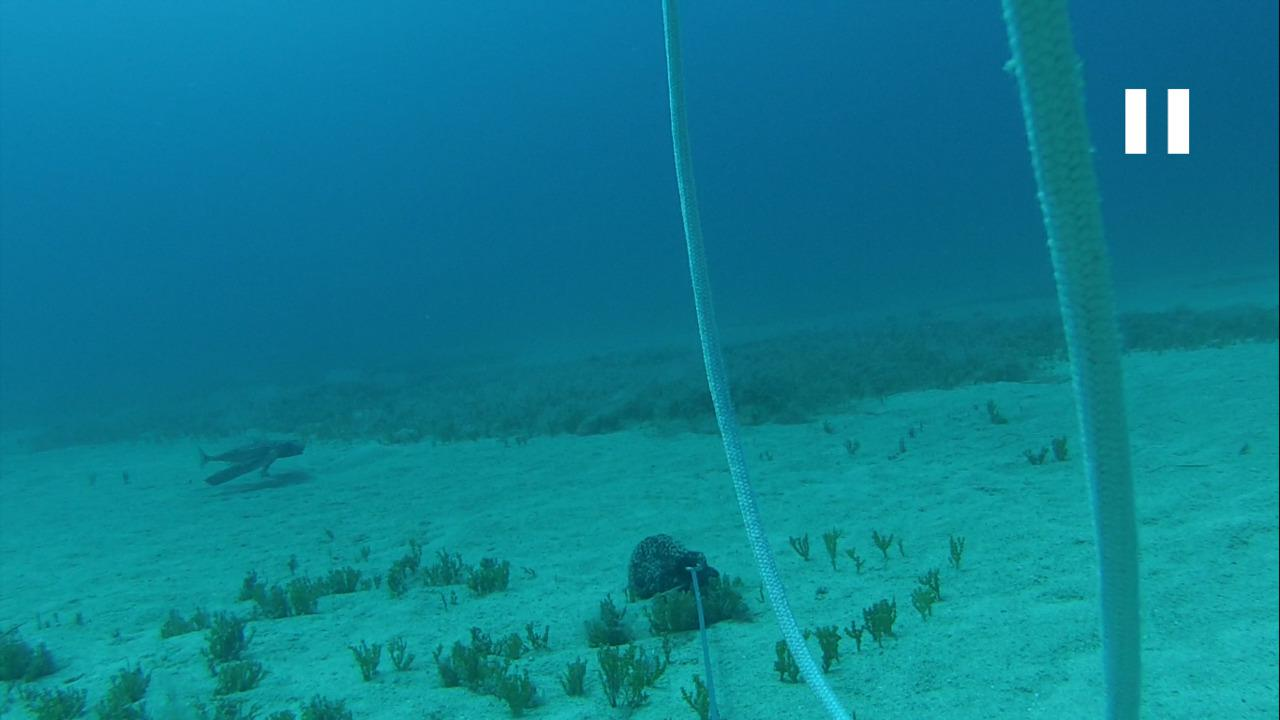dactylopterus: (182, 433, 313, 484)
